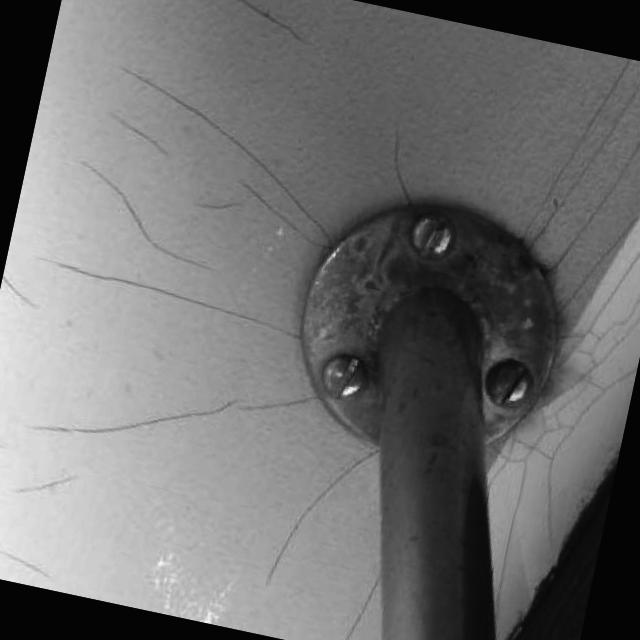crack: (89, 61, 358, 263), (40, 329, 228, 472), (42, 142, 226, 274), (30, 264, 316, 348), (272, 416, 383, 574), (206, 0, 336, 58), (369, 132, 442, 205), (232, 380, 316, 442), (188, 186, 266, 232), (96, 121, 183, 161)
